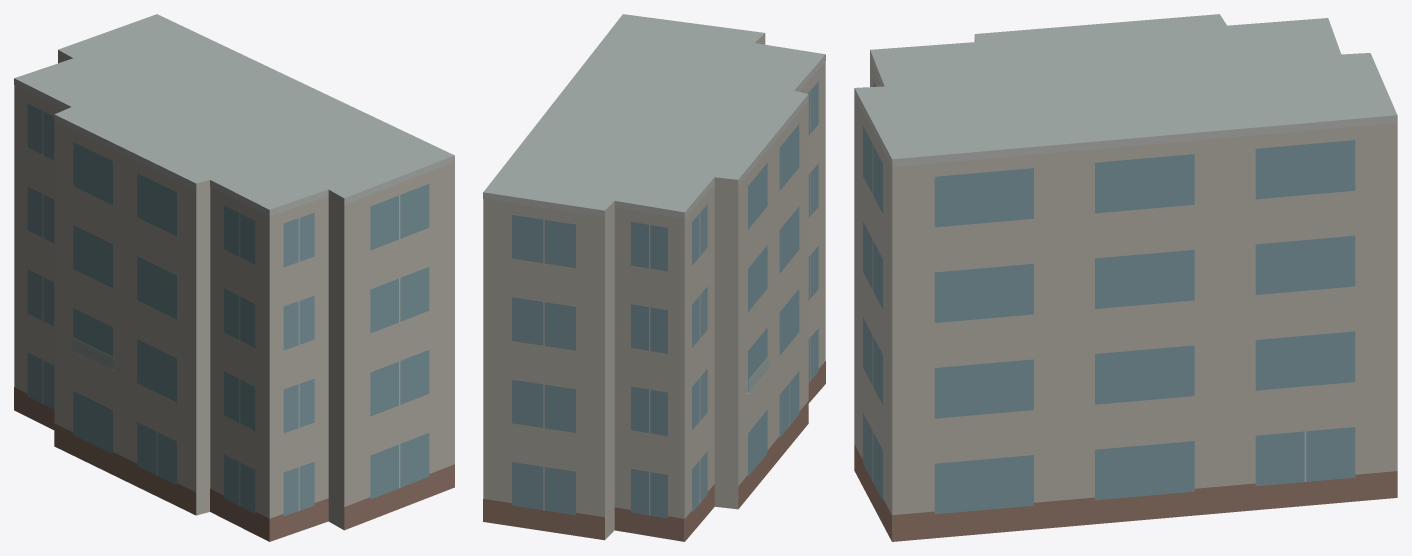
Rendered from survey-upis-32589780.glb.
3 renders of one model, left to right at view 1: azimuth 30°, elevation 25°; view 2: azimuth 150°, elevation 25°; view 3: azimuth 270°, elevation 25°, orthographic. The views are drawn at different scales.
Visible parts, largest first — view 1: survey-upis-32589780.tmp; view 2: survey-upis-32589780.tmp; view 3: survey-upis-32589780.tmp.
Boxes of the visible parts, <box> form: survey-upis-32589780.tmp: <box>14,14,454,541</box>; survey-upis-32589780.tmp: <box>483,14,825,541</box>; survey-upis-32589780.tmp: <box>854,14,1397,541</box>.
Bounding box in the file's own units: 9.95 × 12.2 × 15.71.
